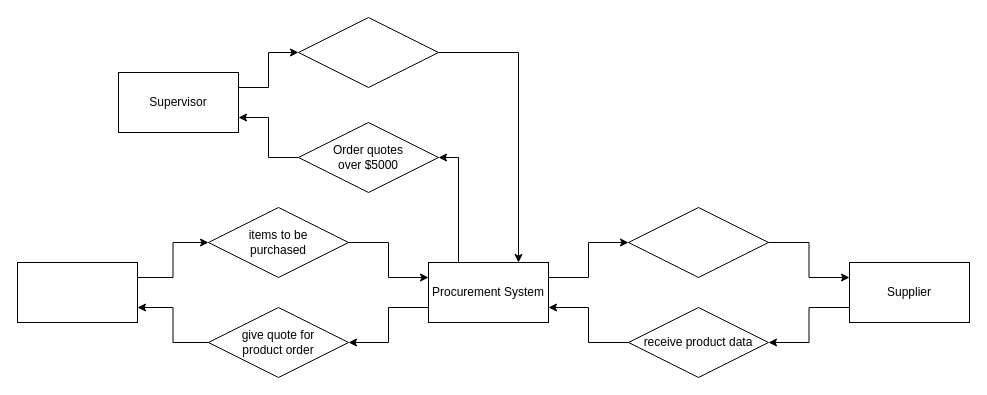
Some shapes in this 987 by 395 pixel diagram are drawn without their labels. Each missing label, with the centre of its shape:
Approval: point (368, 52)
Employee: point (77, 292)
send order: point (698, 242)
